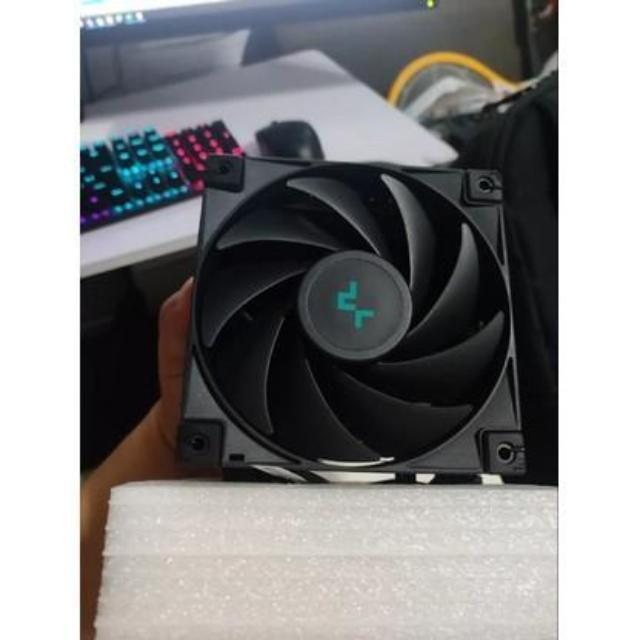CPU_Fan: (177, 154, 531, 492)
